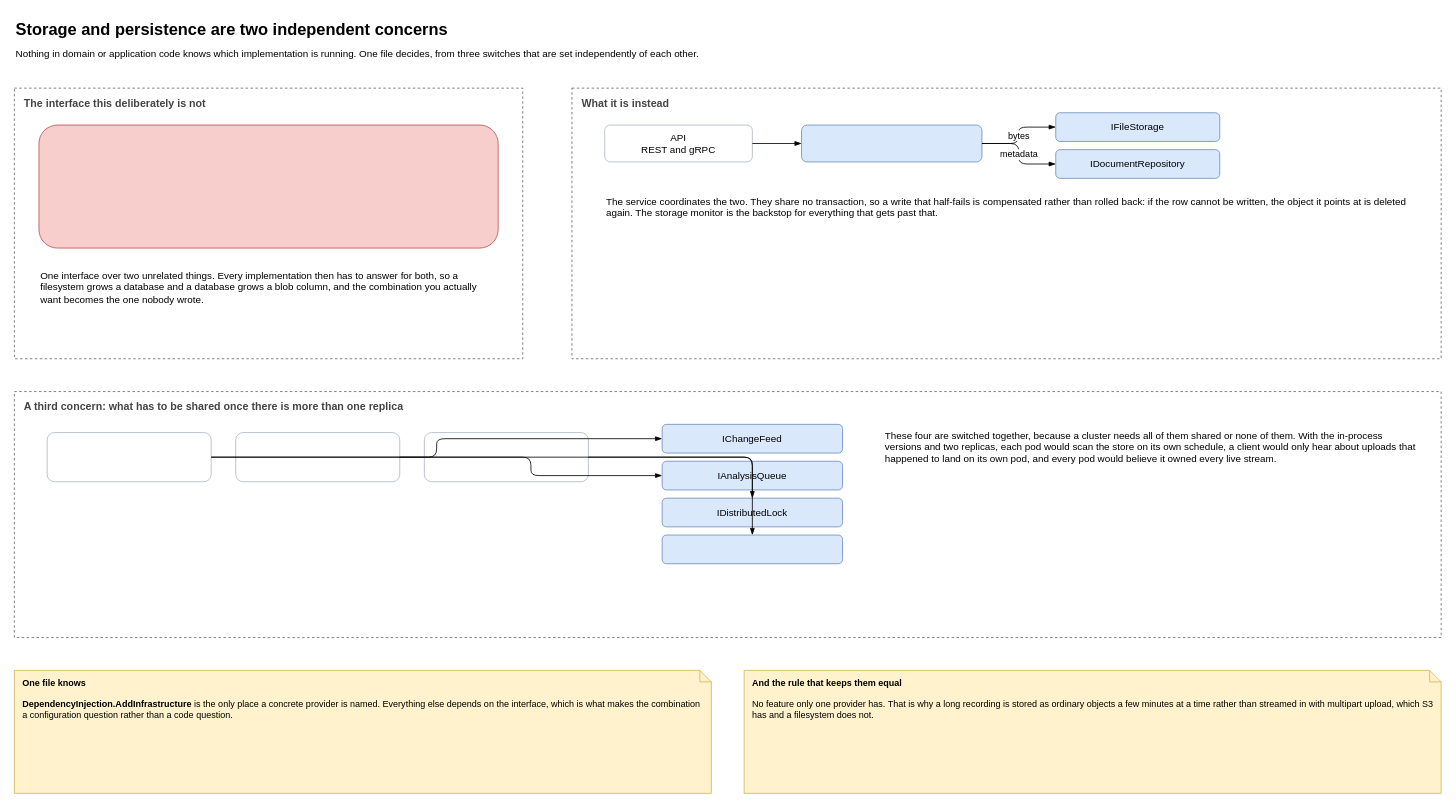
Some shapes in this 1456 by 808 pixel diagram are drawn without their labels. The shapes that lost their labels are listed below. From the top down, each one's centre as x and y in pixels, then its label:
the point at 891,143: DocumentService
the point at 268,186: IStorageProvider SaveFile() SaveEntity() DeleteEntity()
the point at 128,457: StorageMonitor scans the store
the point at 317,457: AnalysisWorker thumbnails, metadata
the point at 506,457: LiveStreamCoordinator owns streams
the point at 752,549: ILiveStreamRegistry
